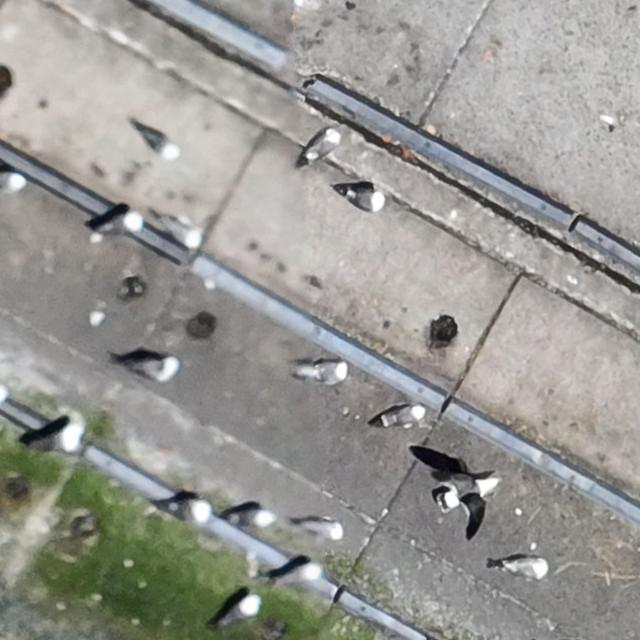F: (424, 451, 506, 523)
umineko: (26, 418, 84, 453), (216, 593, 260, 630), (161, 492, 209, 524), (297, 359, 349, 385), (162, 215, 202, 248), (97, 210, 142, 239), (502, 554, 551, 580), (277, 562, 322, 588), (380, 402, 428, 424), (141, 130, 179, 156), (231, 506, 274, 528), (134, 359, 177, 380), (306, 131, 335, 158), (350, 189, 382, 211), (301, 520, 339, 536), (1, 171, 25, 191)
